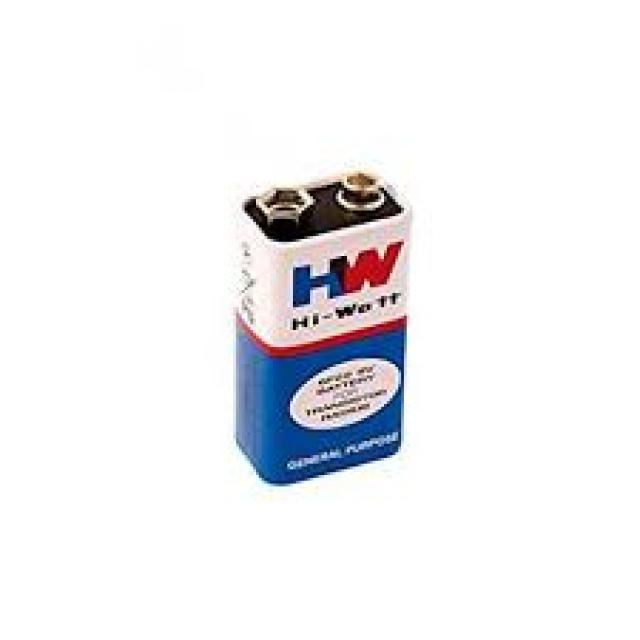battery: (238, 172, 411, 488)
